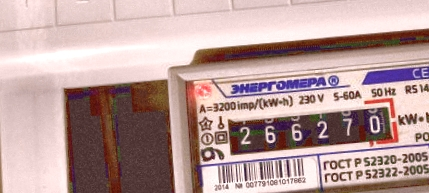0: (367, 112, 382, 134)
2: (237, 124, 253, 145), (315, 118, 330, 139)
6: (263, 122, 277, 144), (290, 121, 304, 142)
7: (340, 116, 354, 136)
screen: (217, 94, 405, 162)
